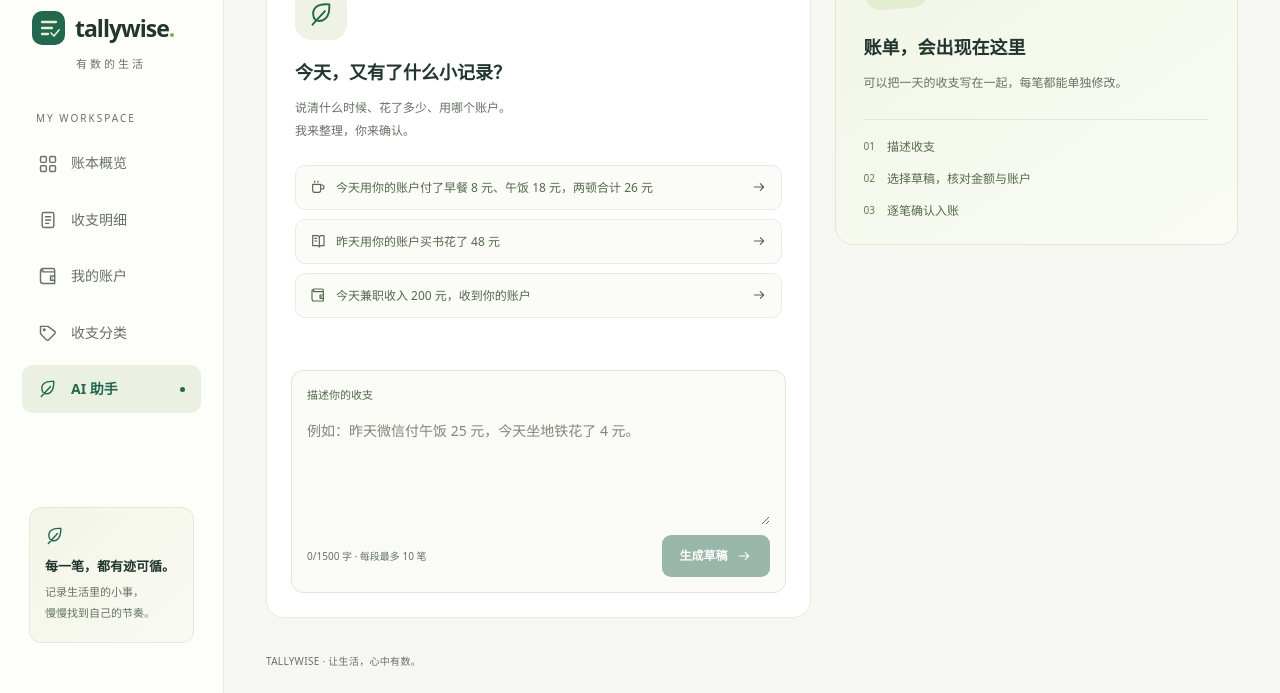
Scenario: AI 助手路由与入账流程 › 成功入账后目录刷新失败会告知用户，保留成功结果
(page scrolled)
Type "今天午饭 25 元，用现金" into the text box labelled "描述你的收支" at point(538, 468), box left=307, top=411, right=770, bottom=526
(page scrolled)
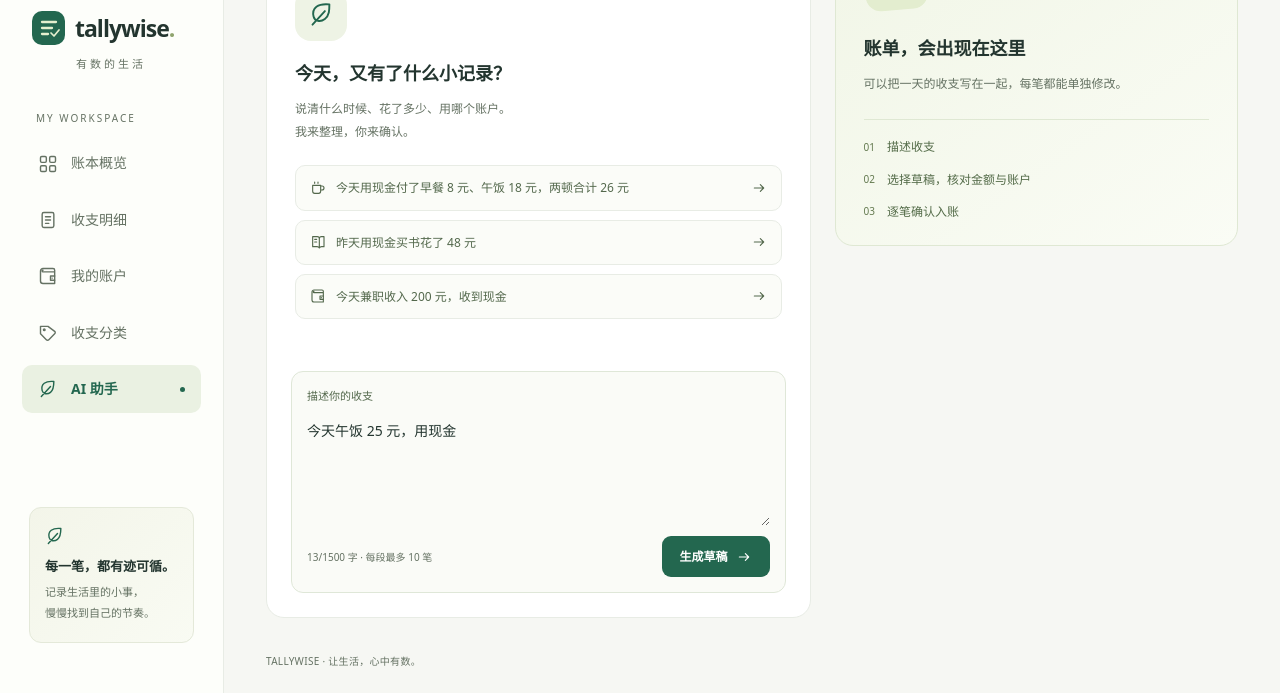
Expected: the button "生成草稿" is enabled
Click the button "生成草稿" at point(716, 557), box left=662, top=536, right=770, bottom=577
(page scrolled)
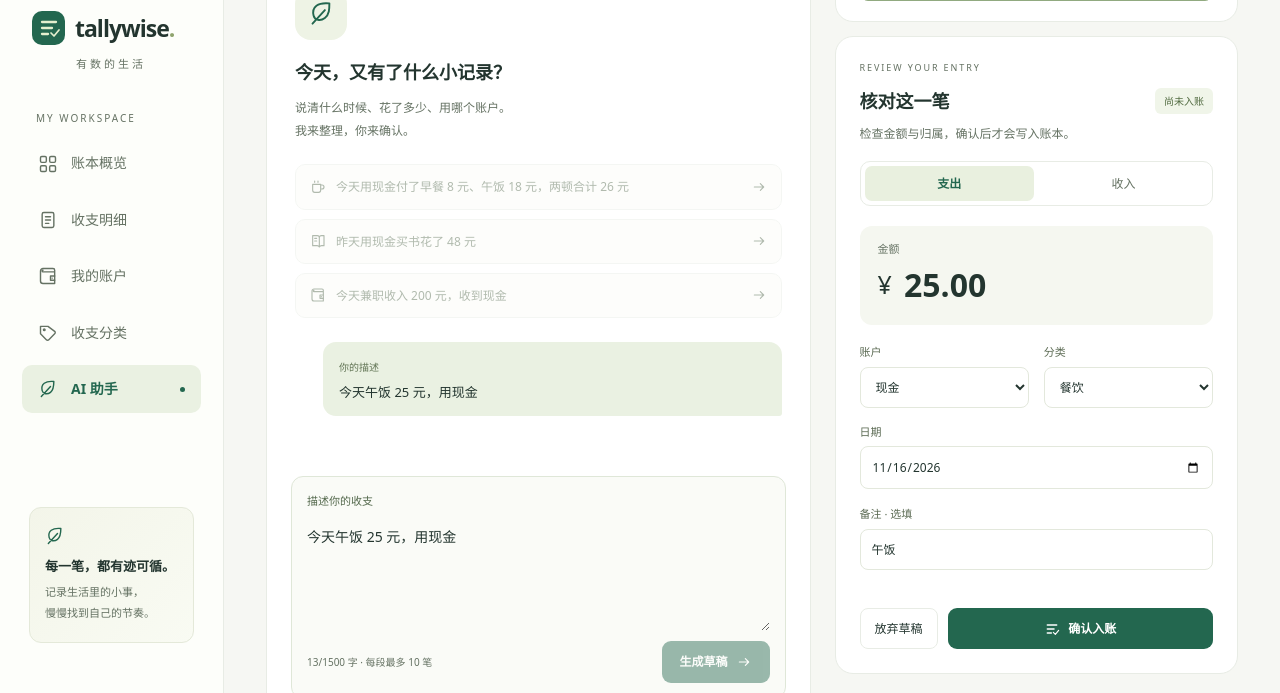
Click the button "确认入账" at point(1080, 629), box left=948, top=608, right=1213, bottom=649
(page scrolled)
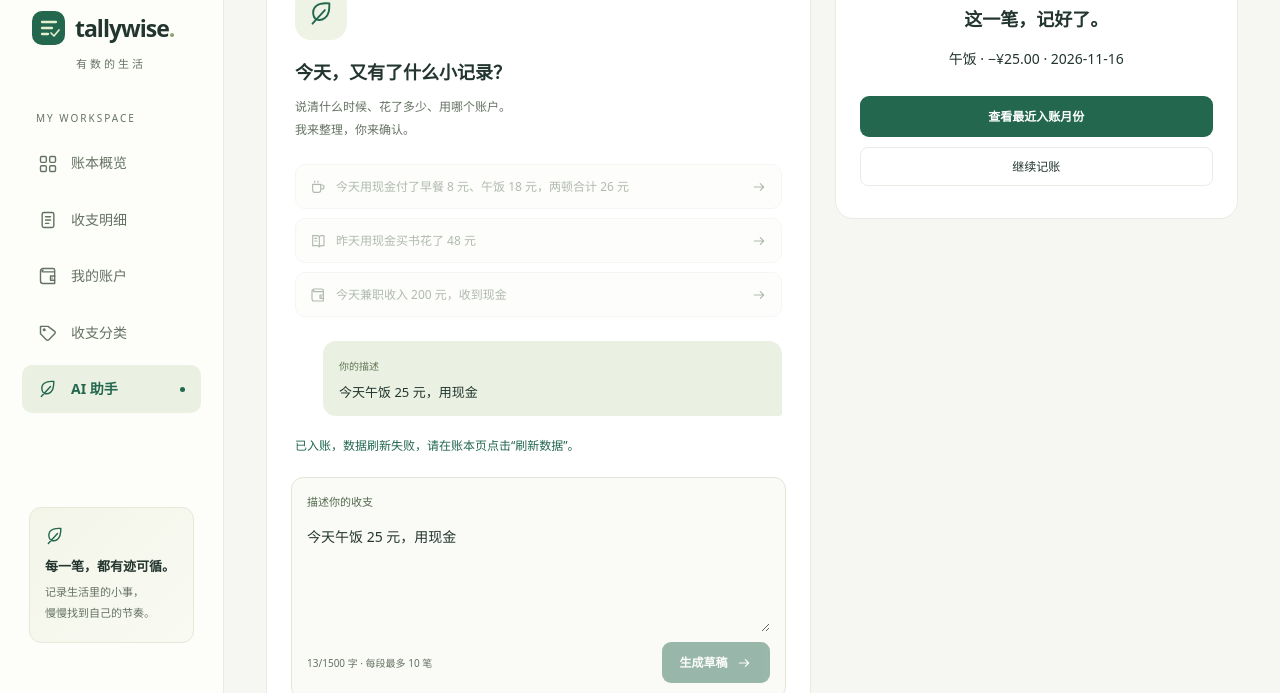
Expected: the heading "这一笔，记好了。" is shown, left=964, top=7, right=1108, bottom=31
Expected: the text "已入账，数据刷新失败，请在账本页点击“刷新数据”。" is shown, left=295, top=437, right=580, bottom=454
